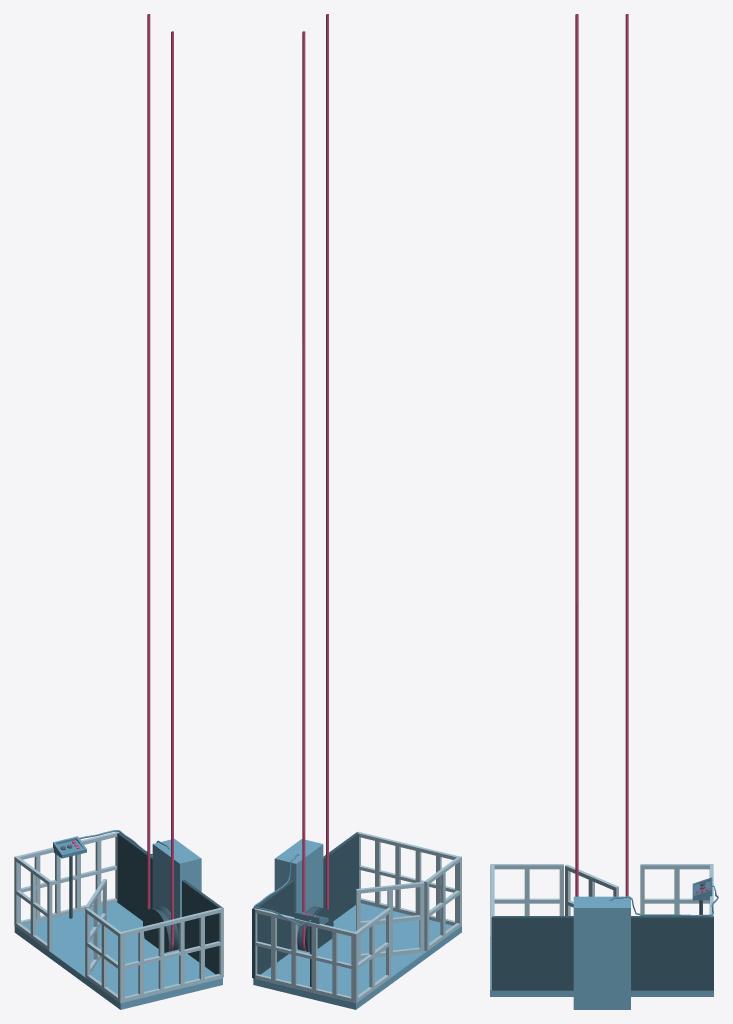
Rendered from Elevator_3.fbx.
3 views of the same model, side by side, from view 1: azimuth 30°, elevation 25°; view 2: azimuth 150°, elevation 25°; view 3: azimuth 270°, elevation 25° (orthographic). The views are drawn at different scales.
Visible parts, largest first — view 1: Nacelle2; view 2: Nacelle2; view 3: Nacelle2.
Boxes of the visible parts, box(x1,y1,x2,y2) form: Nacelle2: box(14, 14, 223, 1009); Nacelle2: box(252, 14, 461, 1009); Nacelle2: box(490, 14, 718, 1009).
Size of the model in its own units: 168 by 1243 by 261.
